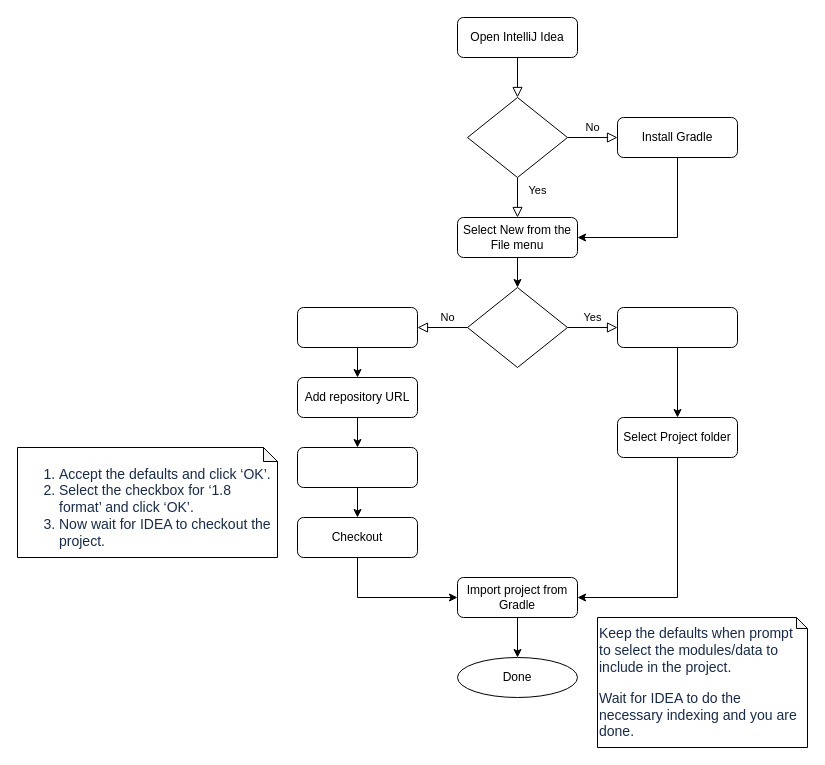
This 825x765 diagram has some shape labels left out. The box of each missing label's shape, as (x1, y1, x2, y2) in pixels:
Add target folder: (296, 446, 418, 488)
Gradle installed?: (466, 96, 568, 178)
Project from Existing Source: (616, 306, 738, 348)
Project from Version Control: (296, 306, 418, 348)
Source code available?: (466, 286, 568, 368)
